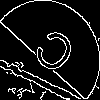C: (25, 25, 79, 85)
